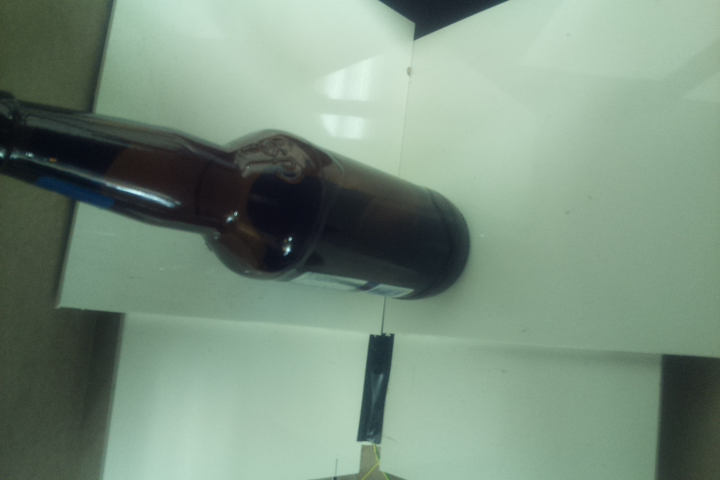makju: (1, 85, 471, 302)
